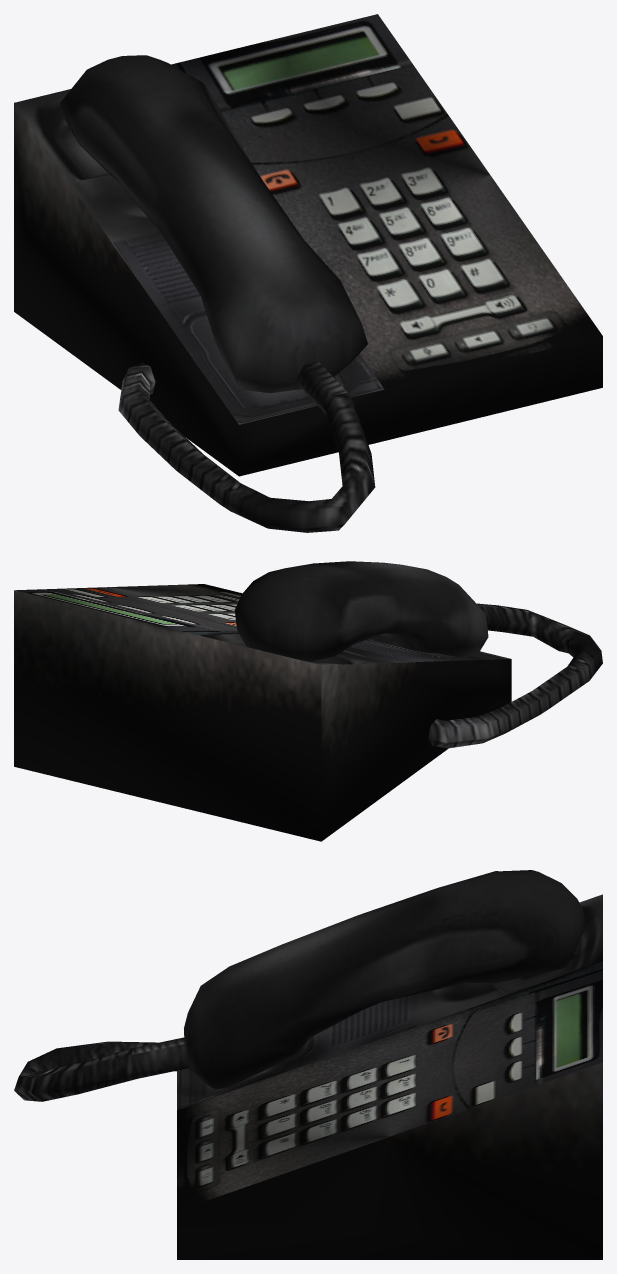
File: phone 1.fbx
The picture shows the model from 3 angles, top to bottom: view 1: azimuth 30°, elevation 25°; view 2: azimuth 150°, elevation 25°; view 3: azimuth 270°, elevation 25°; orthographic projection. The views are drawn at different scales.
Parts seen in each view (by area): view 1: polySurface2, polySurface3, pCylinder1; view 2: polySurface2, polySurface3, pCylinder1; view 3: polySurface2, polySurface3, pCylinder1.
Boxes of the visible parts, x1=… form: polySurface2: x1=14, y1=14, x2=602, y2=476; polySurface3: x1=60, y1=55, x2=367, y2=393; pCylinder1: x1=118, y1=361, x2=375, y2=532; polySurface2: x1=14, y1=584, x2=511, y2=841; polySurface3: x1=234, y1=561, x2=488, y2=661; pCylinder1: x1=428, y1=603, x2=602, y2=748; polySurface2: x1=177, y1=894, x2=602, y2=1259; polySurface3: x1=184, y1=870, x2=585, y2=1089; pCylinder1: x1=14, y1=1037, x2=188, y2=1101.
Size of the model in its own units: 1.62 by 0.963 by 2.07.
